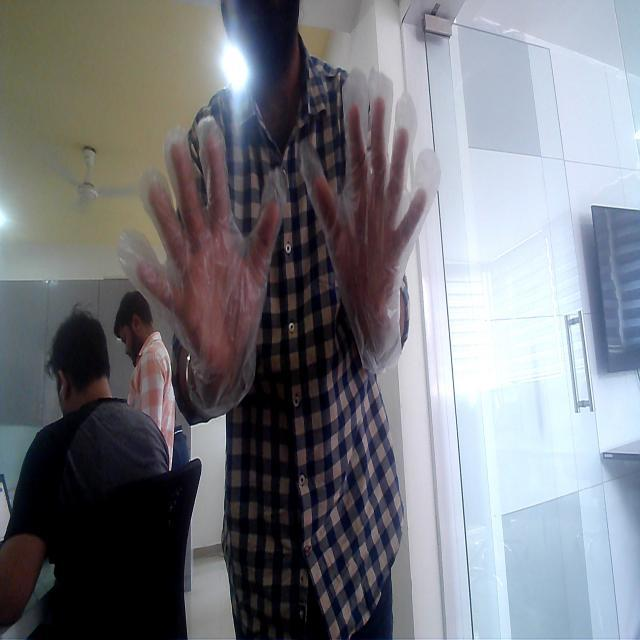with_gloves: (118, 113, 286, 395), (297, 69, 466, 337)
